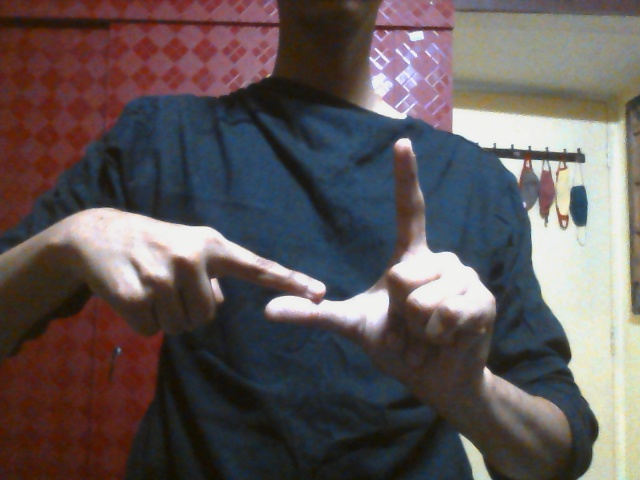J: (168, 138, 497, 389)
